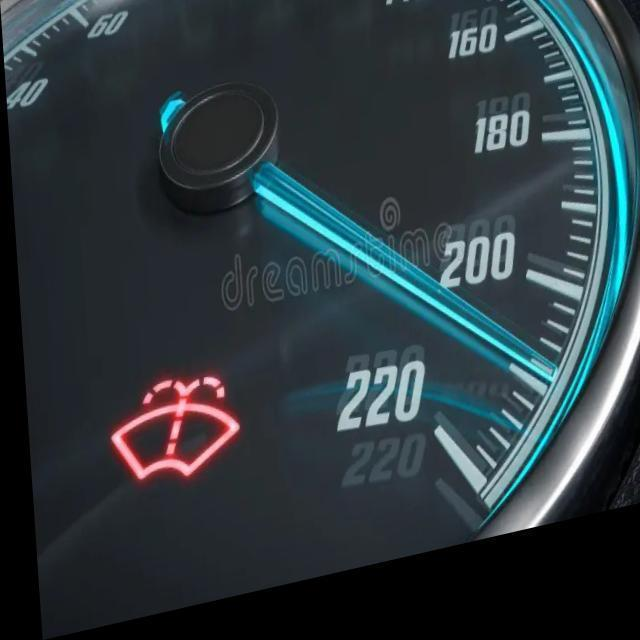Washer Fluid: (109, 375, 240, 481)
